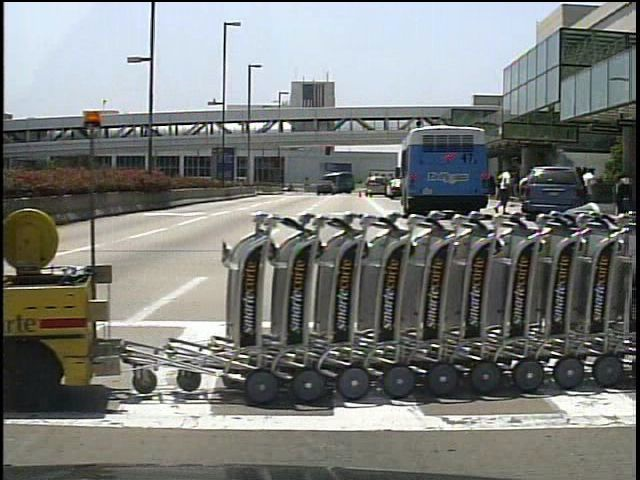person: (580, 165, 601, 214), (495, 166, 514, 216), (517, 168, 536, 215)
